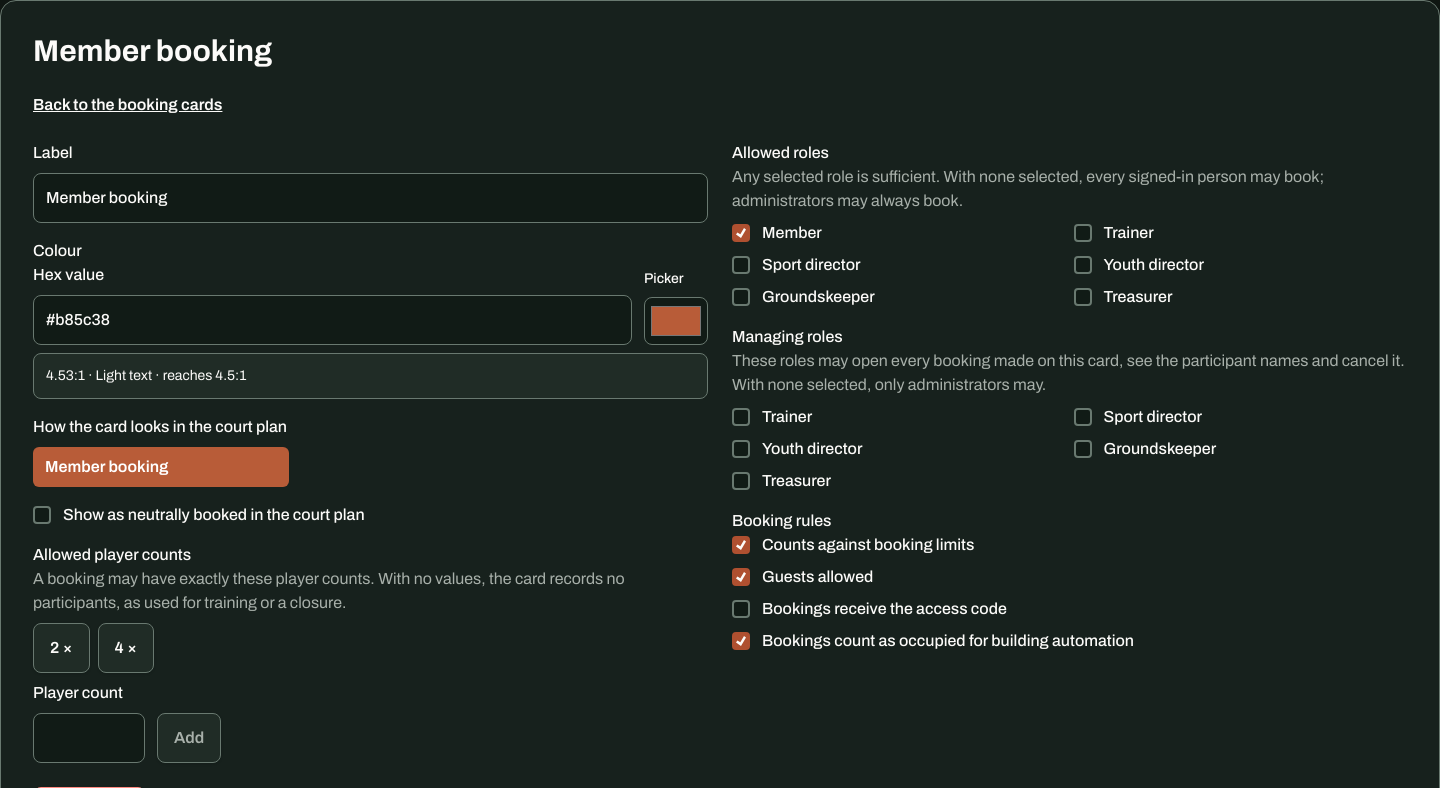
AdminBookingCardView › given a card shown neutrally, when the preview renders, then it hides the label the plan would hide
Expected: the field with test id "card-label" is shown, top-left (33, 173), bottom-right (708, 223)
Click the checkbox with test id "card-generic-occupancy" at (42, 515), box top-left (33, 506), bottom-right (51, 524)
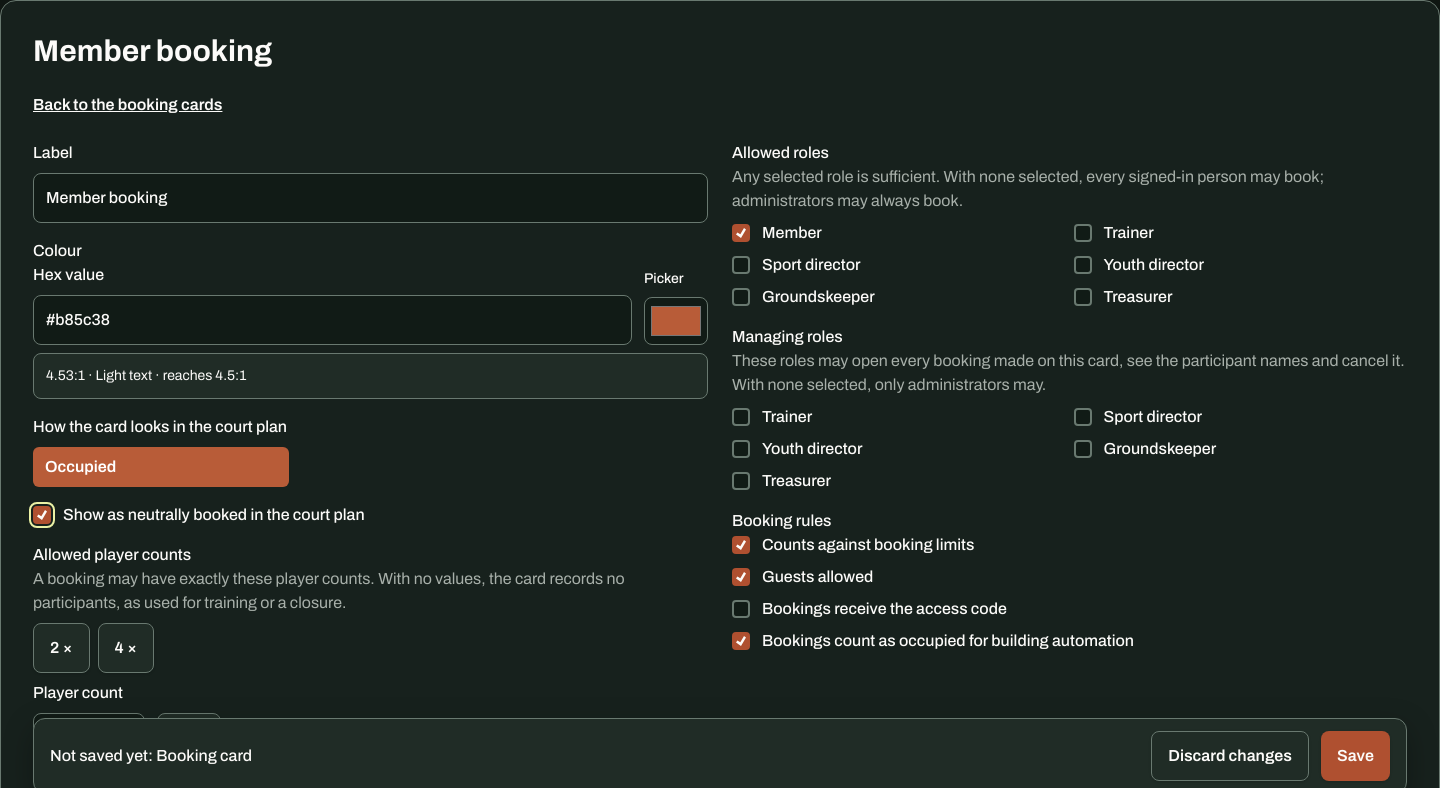
Expected: the text with test id "card-preview" does not show "Member booking", top-left (33, 447), bottom-right (289, 487)
Expected: the text with test id "card-preview" reads "Occupied", top-left (45, 458), bottom-right (116, 475)
